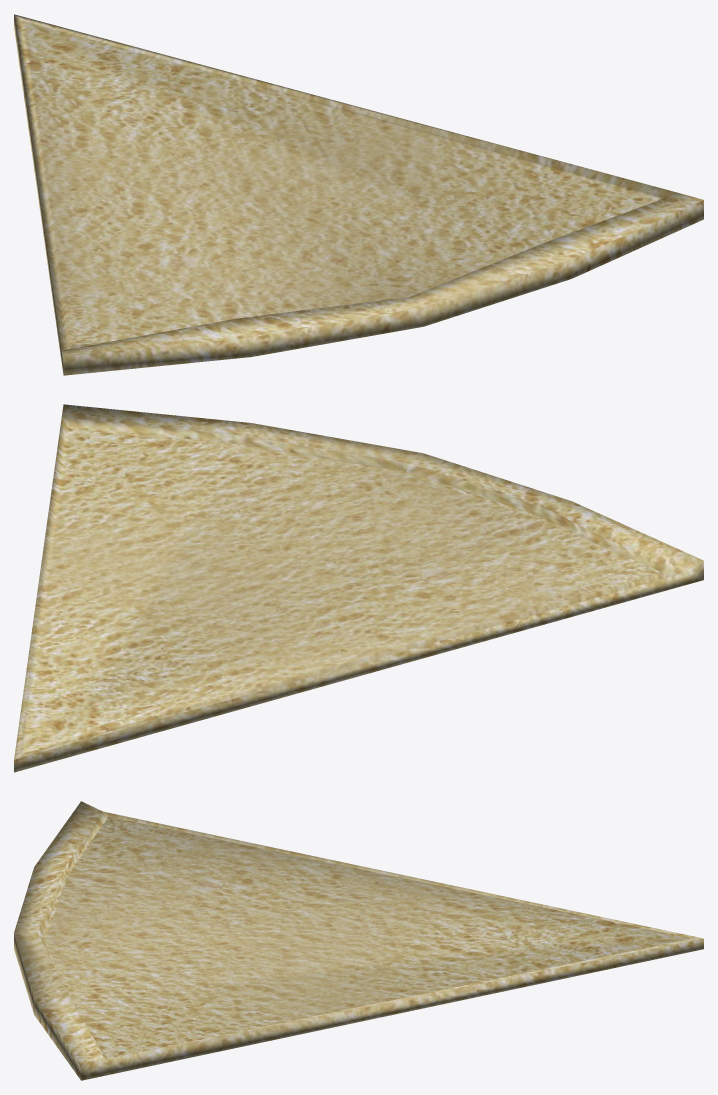
File: hamur ucken.fbx
The picture shows the model from 3 angles, top to bottom: view 1: azimuth 30°, elevation 25°; view 2: azimuth 150°, elevation 25°; view 3: azimuth 270°, elevation 25°; orthographic projection. The views are drawn at different scales.
Visible parts, largest first — view 1: Plane.001; view 2: Plane.001; view 3: Plane.001.
Boxes of the visible parts, left/top/right/bottom form: Plane.001: left=14, top=14, right=703, bottom=375; Plane.001: left=14, top=404, right=703, bottom=772; Plane.001: left=14, top=801, right=703, bottom=1080.
Bounding box in the file's own units: 177 × 6.24 × 196.
1 material, 1 textured.
